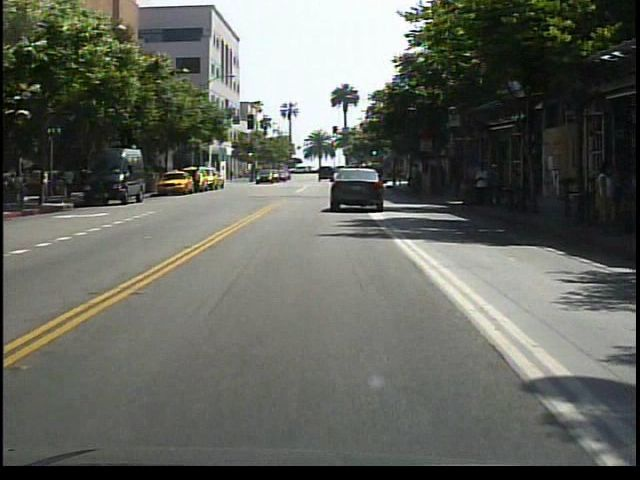person: (470, 162, 496, 216), (192, 162, 205, 197)
